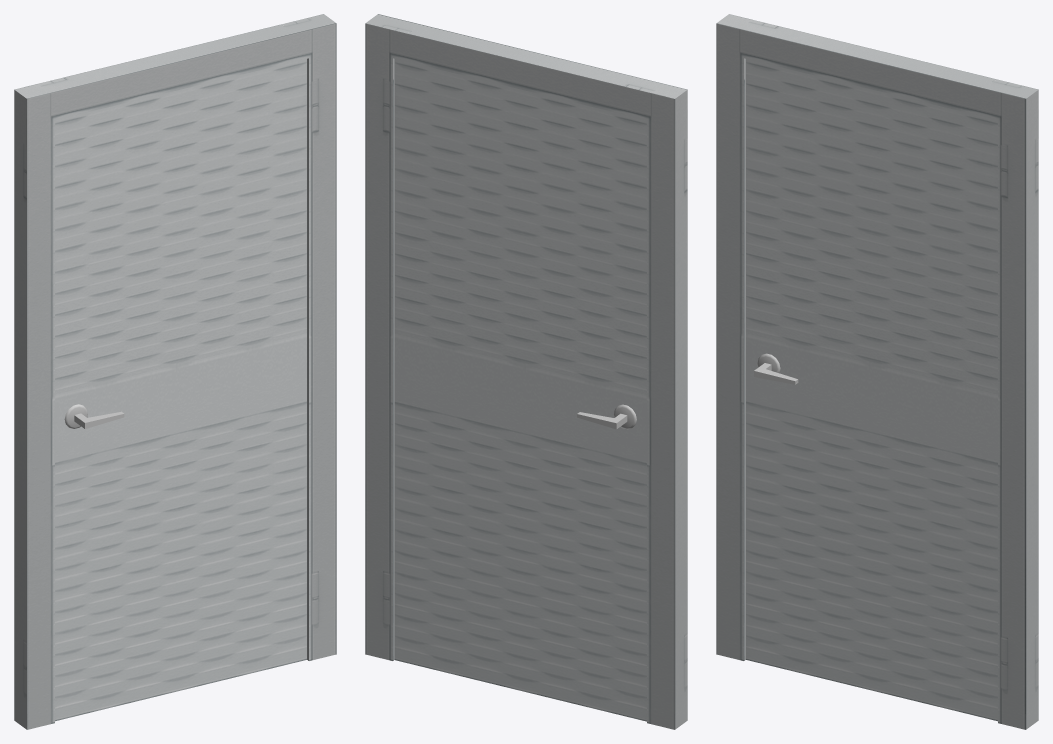
The model's file is Door_T03.FBX.
3 views of the same model, side by side, from view 1: azimuth 30°, elevation 25°; view 2: azimuth 150°, elevation 25°; view 3: azimuth 330°, elevation 25° (orthographic).
Visible parts, largest first — view 1: Door_T03, Door_T03a; view 2: Door_T03, Door_T03a; view 3: Door_T03, Door_T03a.
Boxes of the visible parts, box(x1,y1,x2,y2) form: Door_T03: box(55, 59, 306, 721); Door_T03a: box(14, 14, 336, 729); Door_T03: box(394, 59, 646, 721); Door_T03a: box(365, 14, 687, 729); Door_T03: box(746, 59, 997, 721); Door_T03a: box(716, 14, 1038, 729).
Bounding box in the file's own units: 53.51 × 104 × 9.98.
